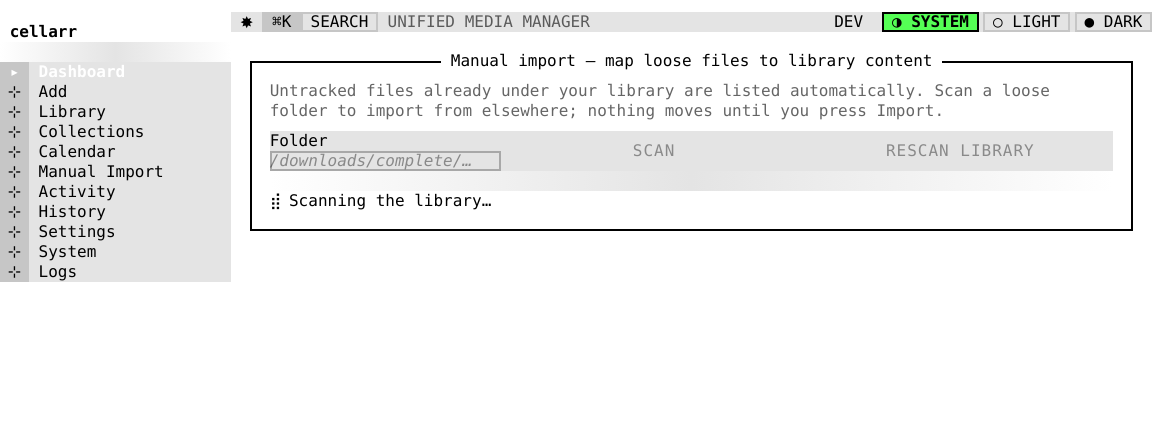
Test: Manual Import screen › scans a folder and renders candidate rows
The image size is (1152, 448).
In the field named "import-folder": (385, 161) [270,151,501,171], type "/downloads"
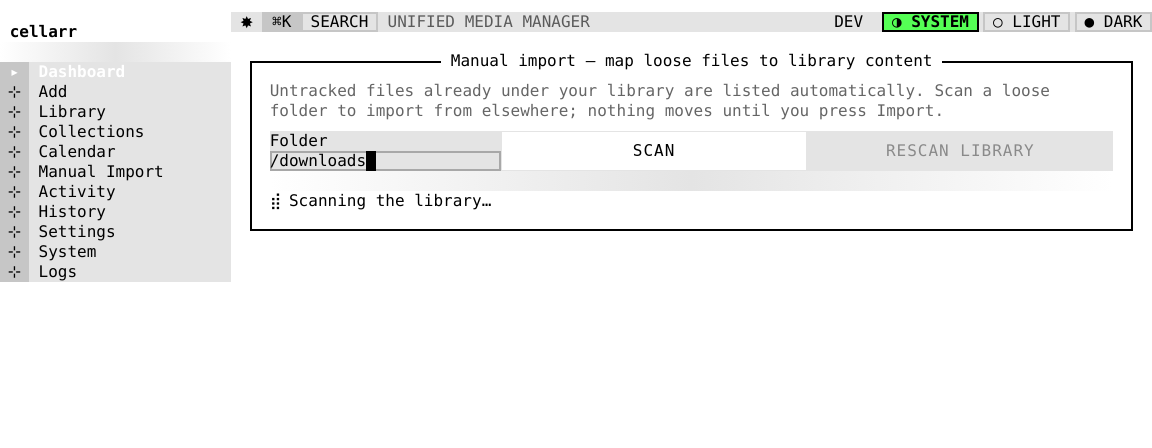
Click the button "Scan": (654, 151) [501,131,807,171]
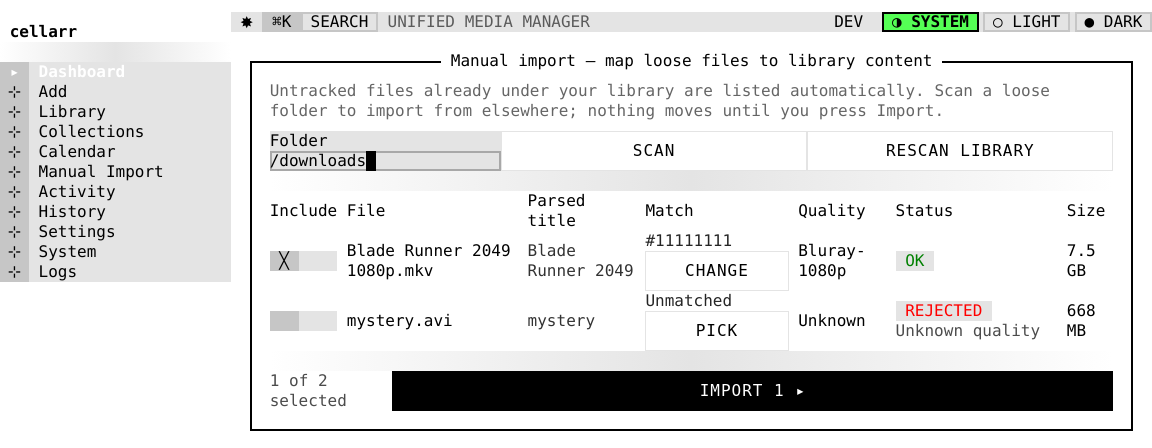
Now the text "Blade Runner 2049 1080p.mkv" is shown, box [337,231,518,291]
Now the text "Bluray-1080p" is shown, box [788,231,886,291]
Now the text "Unknown quality" is shown, box [896,321,1040,340]
